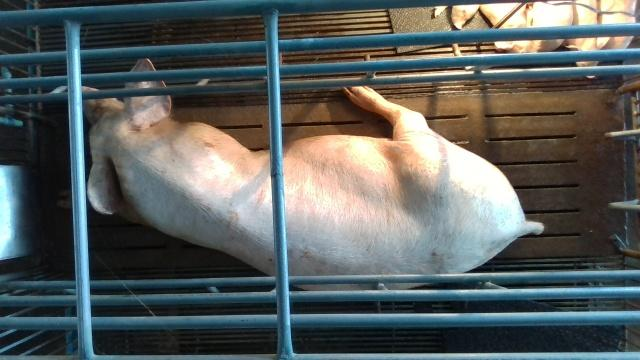piglet: (493, 0, 574, 55), (564, 0, 609, 79), (596, 0, 639, 49)
sow-sit: (48, 58, 544, 292)
